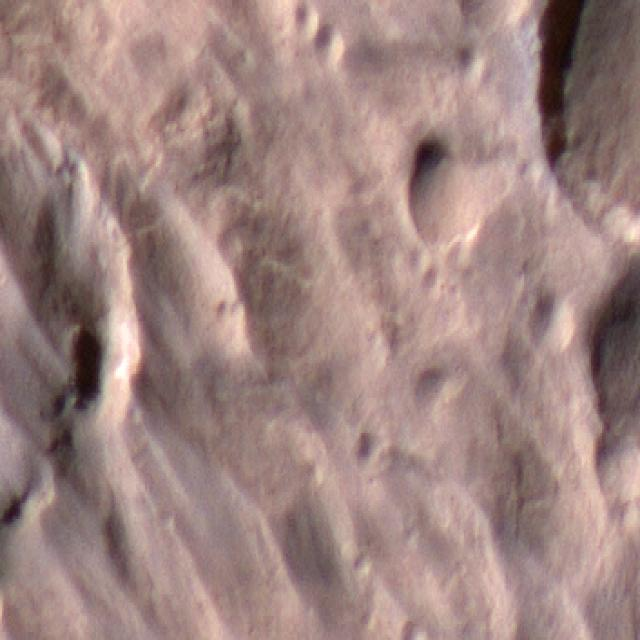Crater: (504, 0, 640, 266), (545, 228, 640, 481)
